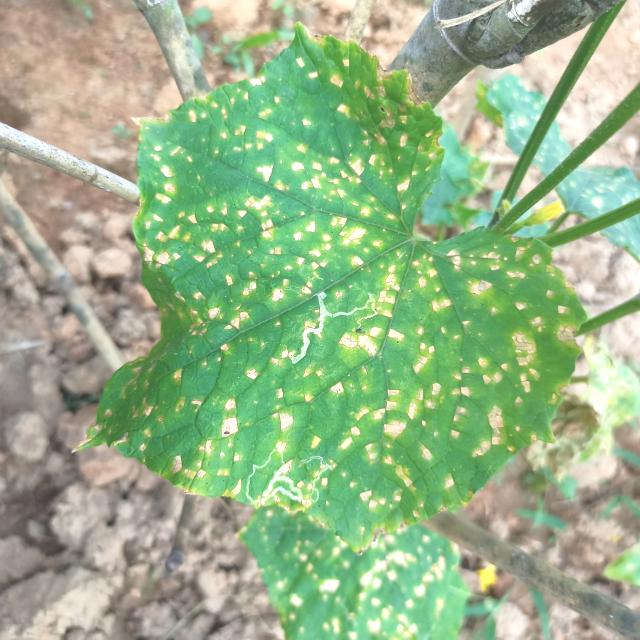disease_cucumber: (120, 67, 572, 536)
